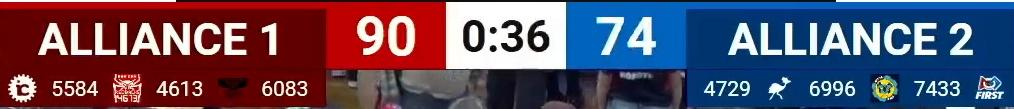blue_score: (595, 15, 658, 57)
red_score: (355, 15, 418, 58)
team_number: (808, 79, 858, 98), (261, 79, 310, 98), (699, 79, 750, 97), (912, 79, 962, 97), (155, 80, 203, 98), (51, 80, 98, 97)
timer: (460, 18, 553, 54)
